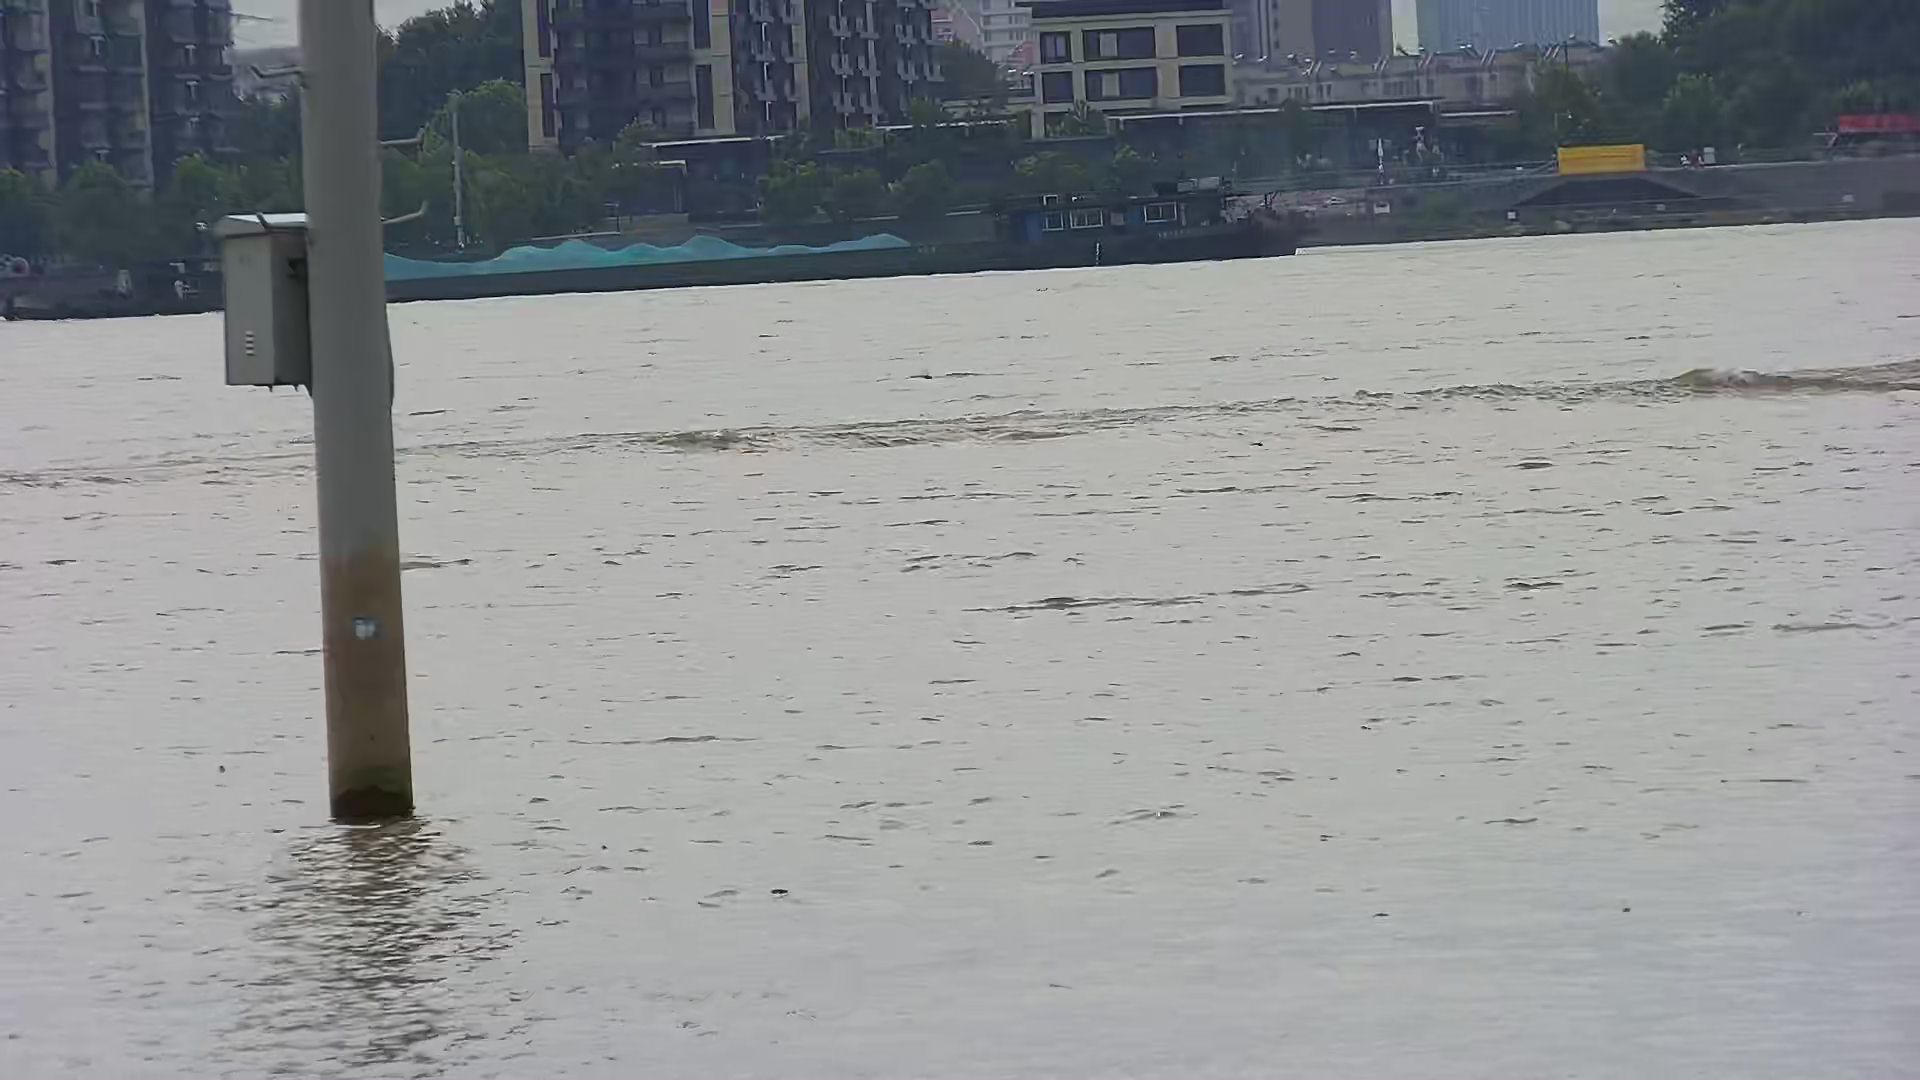mast: (210, 3, 414, 829)
